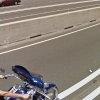Motorcycle: (4, 54, 64, 100)
